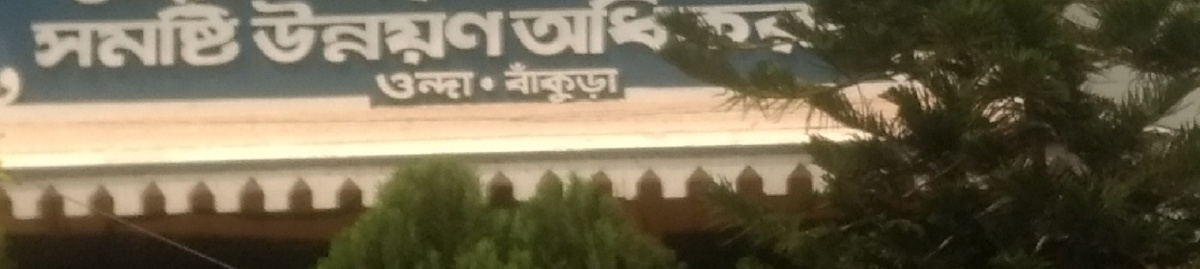text: (33, 2, 48, 72), (49, 2, 64, 72), (65, 2, 80, 72), (81, 2, 96, 72), (97, 2, 112, 72), (113, 2, 128, 72), (129, 2, 144, 72), (145, 2, 160, 72), (161, 2, 176, 72), (177, 2, 192, 72), (193, 2, 208, 72), (209, 2, 224, 72), (225, 2, 240, 72), (257, 1, 272, 70), (273, 1, 288, 70), (289, 1, 304, 70), (305, 1, 320, 70), (321, 1, 336, 70), (337, 1, 352, 70), (353, 1, 368, 70), (369, 1, 384, 70), (385, 1, 400, 70), (401, 1, 416, 70), (417, 1, 432, 70), (433, 1, 448, 70), (449, 1, 464, 70), (465, 1, 480, 70), (481, 1, 496, 70), (513, 1, 528, 62), (529, 1, 544, 62), (545, 1, 560, 62), (561, 1, 576, 62), (577, 1, 592, 62), (593, 1, 608, 62), (609, 1, 624, 62), (625, 1, 640, 62), (641, 1, 656, 62), (657, 1, 672, 62), (673, 1, 688, 62), (689, 1, 704, 62), (705, 1, 720, 62), (721, 1, 736, 62), (737, 1, 752, 62), (753, 1, 768, 62), (769, 1, 784, 62), (785, 1, 800, 62), (801, 1, 816, 62), (817, 1, 832, 62), (833, 1, 846, 62), (513, 59, 528, 110), (529, 59, 544, 110), (545, 59, 560, 110), (561, 59, 576, 110), (577, 59, 592, 110), (593, 59, 608, 110), (497, 1, 508, 70), (1, 64, 16, 112), (246, 1, 256, 70), (609, 59, 621, 110), (502, 59, 512, 110), (385, 68, 400, 100), (401, 68, 416, 100), (417, 68, 432, 100), (433, 68, 448, 100), (449, 68, 464, 100), (241, 2, 247, 72), (465, 68, 478, 100), (17, 64, 25, 112), (506, 1, 512, 62), (28, 2, 32, 72), (376, 68, 384, 100), (81, 1, 96, 10), (97, 1, 112, 10), (69, 1, 80, 10), (177, 1, 192, 5), (169, 1, 176, 5), (113, 1, 114, 10)
